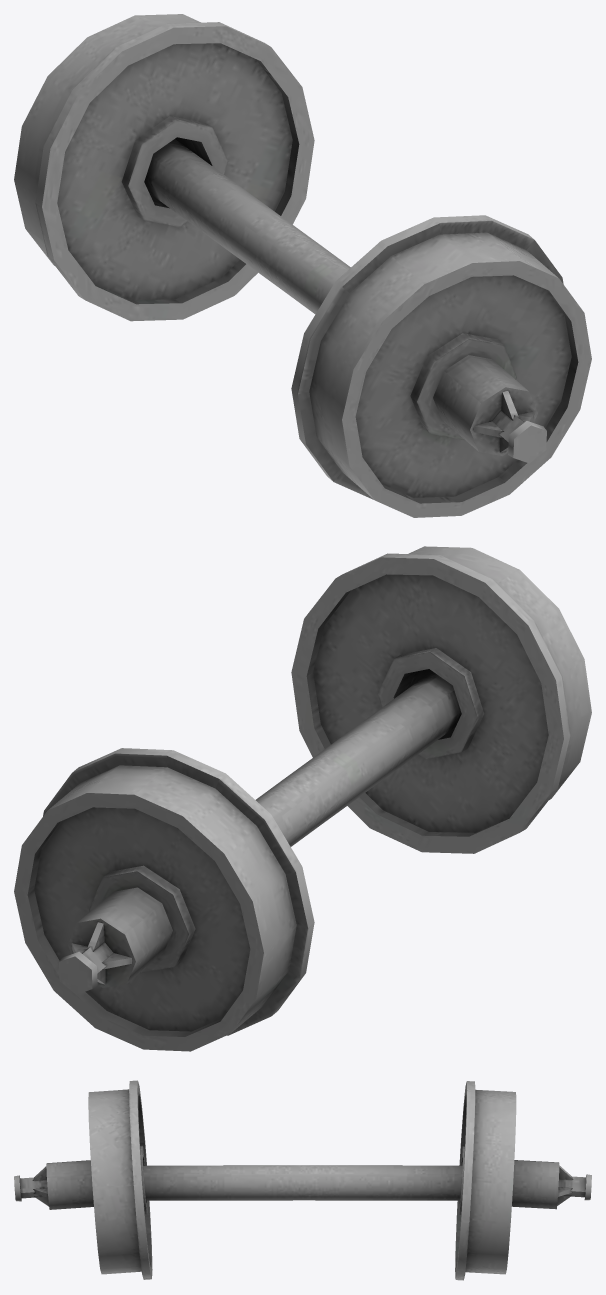
3 views of the same model, one above another, from view 1: azimuth 30°, elevation 25°; view 2: azimuth 150°, elevation 25°; view 3: azimuth 270°, elevation 25° (orthographic). The views are drawn at different scales.
Visible parts, largest first — view 1: body0_model0_lod0_mesh0; view 2: body0_model0_lod0_mesh0; view 3: body0_model0_lod0_mesh0.
Part boxes in pixels (bbox=[...]): body0_model0_lod0_mesh0: bbox=[14, 14, 591, 517]; body0_model0_lod0_mesh0: bbox=[14, 546, 591, 1051]; body0_model0_lod0_mesh0: bbox=[14, 1080, 591, 1280].
Size of the model in its own units: 36 by 36.12 by 104.
1 material, 1 textured.
